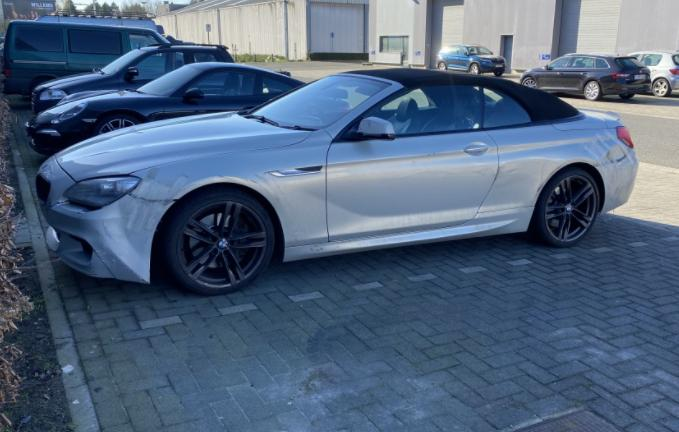Broken part: (596, 140, 630, 169), (128, 191, 181, 204), (50, 193, 75, 210)
Dent: (100, 198, 148, 277), (605, 144, 627, 158)
Paint chip: (535, 163, 562, 197), (195, 172, 249, 186), (365, 120, 373, 129), (142, 278, 150, 284), (316, 247, 324, 251), (310, 248, 314, 251), (314, 245, 318, 247), (433, 153, 435, 154), (428, 154, 430, 155)
Scratch: (109, 249, 141, 280), (251, 181, 280, 207), (253, 173, 270, 185), (102, 259, 117, 268), (75, 211, 84, 221), (88, 273, 102, 278), (95, 250, 108, 255)
